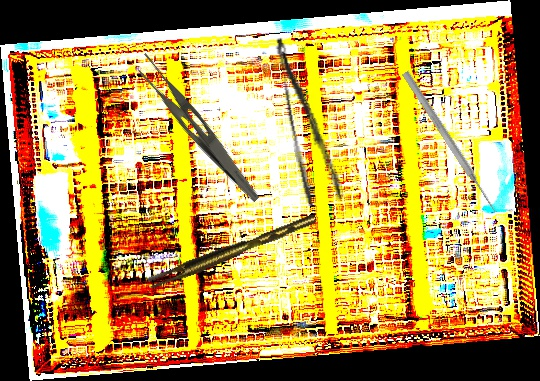Dressing Forceps: (126, 50, 275, 204), (272, 31, 345, 207)
Pusher: (400, 69, 500, 216)
Tissue Forceps: (144, 214, 320, 290)
